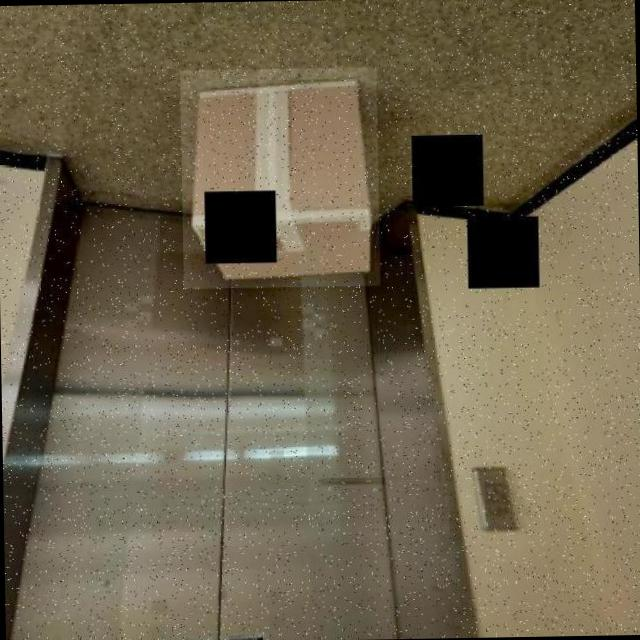box: (179, 66, 380, 288)
